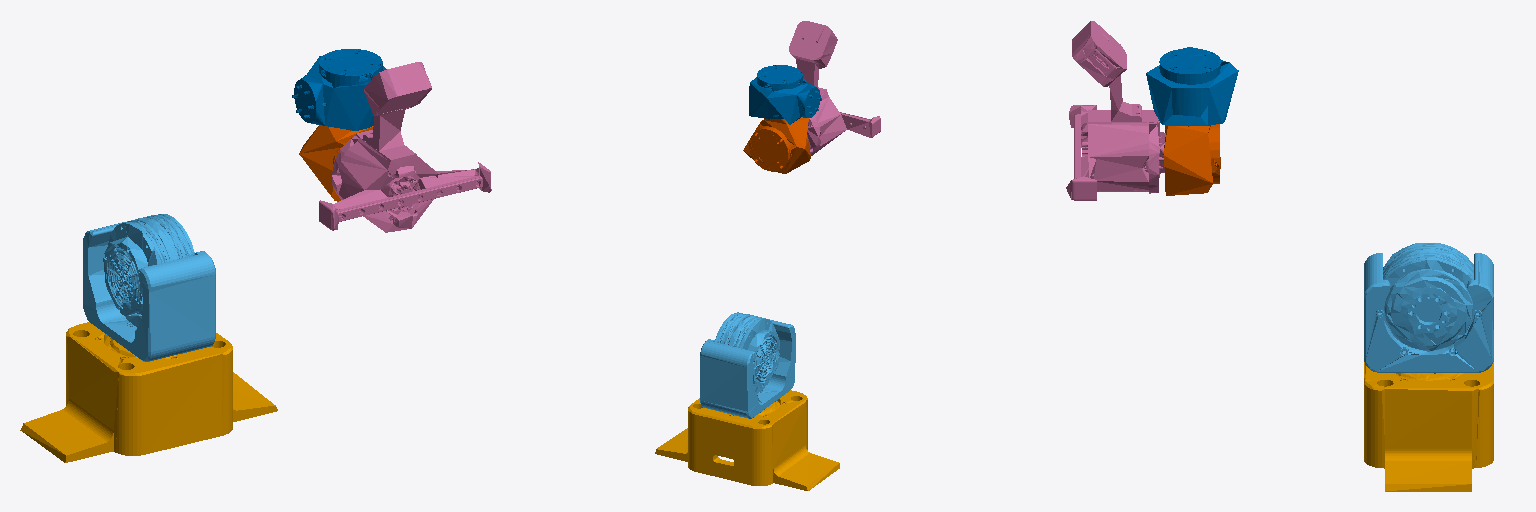
URDF robot description (s1_right):
<?xml version='1.0' encoding='utf-8'?>
<robot name="s1_right">
  <material name="pla_cf_black">
    <color rgba="0.08 0.083 0.09 1" />
  </material>
  <material name="base_graphite">
    <color rgba="0.12 0.13 0.142 1" />
  </material>
  <material name="link1_cool_graphite">
    <color rgba="0.17 0.19 0.215 1" />
  </material>
  <material name="link2_blue_graphite">
    <color rgba="0.125 0.165 0.2 1" />
  </material>
  <material name="link3_warm_graphite">
    <color rgba="0.2 0.17 0.125 1" />
  </material>
  <material name="link4_green_graphite">
    <color rgba="0.145 0.19 0.13 1" />
  </material>
  <material name="link5_violet_graphite">
    <color rgba="0.185 0.145 0.205 1" />
  </material>
  <material name="gripper_graphite">
    <color rgba="0.15 0.155 0.17 1" />
  </material>
  <material name="finger_carrier_graphite">
    <color rgba="0.12 0.13 0.145 1" />
  </material>
  <material name="motor_dark_gray">
    <color rgba="0.285 0.29 0.305 1" />
  </material>
  <material name="black_oxide">
    <color rgba="0.045 0.045 0.05 1" />
  </material>
  <material name="silver_metal">
    <color rgba="0.83 0.83 0.815 1" />
  </material>
  <material name="camera_black">
    <color rgba="0.07 0.075 0.085 1" />
  </material>
  <material name="rubber_black">
    <color rgba="0.055 0.055 0.06 1" />
  </material>
  <material name="soft_finger_orange">
    <color rgba="1 0.33 0.02 1" />
  </material>
  <link name="base_link">
    <inertial>
      <origin xyz="-7.46613316e-16 -5.4488925e-17 -0.00276303415" rpy="0 0 0" />
      <mass value="1.29583519" />
      <inertia ixx="0.0017107724" ixy="-1.80418018e-19" ixz="-7.35483974e-18" iyy="0.00274261726" iyz="-7.67794656e-19" izz="0.00340175483" />
    </inertial>
    <visual>
      <origin xyz="0 0 0" rpy="0 0 0" />
      <geometry>
        <mesh filename="../meshes/visual/base_link.obj" />
      </geometry>
    </visual>
    <collision>
      <origin xyz="-2.74780199e-15 -2.22044605e-16 -0.01" rpy="0 0 0" />
      <geometry>
        <box size="0.22 0.12 0.0817" />
      </geometry>
    </collision>
  </link>
  <link name="link1">
    <inertial>
      <origin xyz="0.00327466065 -3.54095634e-05 0.0909114977" rpy="0 0 0" />
      <mass value="1.12836581" />
      <inertia ixx="0.00195177555" ixy="9.87899467e-07" ixz="-1.26151138e-05" iyy="0.0013617154" iyz="-1.39972709e-06" izz="0.0013391883" />
    </inertial>
    <visual>
      <origin xyz="0 0 0" rpy="0 0 0" />
      <geometry>
        <mesh filename="../meshes/visual/link1.obj" />
      </geometry>
    </visual>
    <collision>
      <origin xyz="7.24420524e-15 6.10622664e-16 0.0841" rpy="0 0 0" />
      <geometry>
        <box size="0.07 0.12 0.1195" />
      </geometry>
    </collision>
  </link>
  <link name="link2">
    <inertial>
      <origin xyz="0.0438748016 -2.88223248e-05 0.171998187" rpy="0 0 0" />
      <mass value="0.914321365" />
      <inertia ixx="0.00890792612" ixy="1.31110743e-07" ixz="0.000193746912" iyy="0.00872933125" iyz="-1.35111725e-06" izz="0.000568555708" />
    </inertial>
    <visual>
      <origin xyz="0 0 0" rpy="0 0 0" />
      <geometry>
        <mesh filename="../meshes/visual/link2.obj" />
      </geometry>
    </visual>
    <collision>
      <origin xyz="0.041475 1.11022302e-15 0.125" rpy="0 0 0" />
      <geometry>
        <box size="0.06075 0.08 0.33" />
      </geometry>
    </collision>
  </link>
  <link name="link3">
    <inertial>
      <origin xyz="-0.0417290979 -0.156009659 3.38134269e-05" rpy="0 0 0" />
      <mass value="0.839316672" />
      <inertia ixx="0.00633206114" ixy="0.000145532134" ixz="2.13444502e-07" iyy="0.000531686993" iyz="-2.05633337e-06" izz="0.00618267806" />
    </inertial>
    <visual>
      <origin xyz="0 0 0" rpy="0 0 0" />
      <geometry>
        <mesh filename="../meshes/visual/link3.obj" />
      </geometry>
    </visual>
    <collision>
      <origin xyz="-0.039875 -0.10985 4.98212582e-15" rpy="0 0 0" />
      <geometry>
        <box size="0.06075 0.2997 0.08" />
      </geometry>
    </collision>
  </link>
  <link name="link4">
    <inertial>
      <origin xyz="0.0732396578 2.37324905e-07 0.0039188933" rpy="0 0 0" />
      <mass value="0.368651315" />
      <inertia ixx="0.000172235544" ixy="8.72272023e-11" ixz="-2.56704281e-06" iyy="0.000195507711" iyz="-1.62566292e-09" izz="0.000230267156" />
    </inertial>
    <visual>
      <origin xyz="0 0 0" rpy="0 0 0" />
      <geometry>
        <mesh filename="../meshes/visual/link4.obj" />
      </geometry>
    </visual>
    <collision>
      <origin xyz="0.06565 1.83186799e-15 0.0022" rpy="0 0 0" />
      <geometry>
        <box size="0.0852 0.066 0.0509" />
      </geometry>
    </collision>
  </link>
  <link name="link5">
    <inertial>
      <origin xyz="2.37324897e-07 0.00400027101 -0.0681658426" rpy="0 0 0" />
      <mass value="0.368651315" />
      <inertia ixx="0.00019584039" ixy="-1.62729219e-09" ixz="4.23583008e-10" iyy="0.00023051686" iyz="3.83217167e-06" izz="0.000172318521" />
    </inertial>
    <visual>
      <origin xyz="0 0 0" rpy="0 0 0" />
      <geometry>
        <mesh filename="../meshes/visual/link5.obj" />
      </geometry>
    </visual>
    <collision>
      <origin xyz="-8.03523914e-15 0.00225 -0.0604" rpy="0 0 0" />
      <geometry>
        <box size="0.066 0.051 0.0852" />
      </geometry>
    </collision>
  </link>
  <link name="gripper_base_link">
    <inertial>
      <origin xyz="7.05002409e-05 -0.073624413 0.0133070668" rpy="0 0 0" />
      <mass value="0.566289225" />
      <inertia ixx="0.00105813362" ixy="-7.20294607e-07" ixz="-1.62884186e-07" iyy="0.00120353592" iyz="0.000112752829" izz="0.000702651412" />
    </inertial>
    <visual>
      <origin xyz="0 0 0" rpy="0 0 0" />
      <geometry>
        <mesh filename="../meshes/visual/gripper_base_link.obj" />
      </geometry>
    </visual>
    <collision>
      <origin xyz="2.22044605e-16 -0.069 0.044550084" rpy="0 0 0" />
      <geometry>
        <box size="0.166 0.092 0.164100168" />
      </geometry>
    </collision>
  </link>
  <link name="left_finger_link">
    <inertial>
      <origin xyz="-0.0589163757 -0.138908274 0.000518355848" rpy="0 0 0" />
      <mass value="0.0643791022" />
      <inertia ixx="9.84052109e-05" ixy="-3.38980672e-07" ixz="-7.16458775e-07" iyy="1.38351336e-05" iyz="-1.05776011e-06" izz="9.81390236e-05" />
    </inertial>
    <visual>
      <origin xyz="0 0 0" rpy="0 0 0" />
      <geometry>
        <mesh filename="../meshes/visual/left_finger_link.obj" />
      </geometry>
    </visual>
    <collision>
      <origin xyz="-0.0349500659 -0.16755 5e-05" rpy="0 0 0" />
      <geometry>
        <box size="0.0826656621 0.1351 0.052" />
      </geometry>
    </collision>
  </link>
  <link name="right_finger_link">
    <inertial>
      <origin xyz="0.0589163778 -0.138908274 -0.000168355851" rpy="0 0 0" />
      <mass value="0.0643791022" />
      <inertia ixx="9.84052109e-05" ixy="3.38980672e-07" ixz="-7.16458775e-07" iyy="1.38351336e-05" iyz="1.05776012e-06" izz="9.81390236e-05" />
    </inertial>
    <visual>
      <origin xyz="0 0 0" rpy="0 0 0" />
      <geometry>
        <mesh filename="../meshes/visual/right_finger_link.obj" />
      </geometry>
    </visual>
    <collision>
      <origin xyz="0.034950068 -0.16755 0.0003" rpy="0 0 0" />
      <geometry>
        <box size="0.0826656621 0.1351 0.052" />
      </geometry>
    </collision>
  </link>
  <link name="camera_link" />
  <joint name="camera_fixed" type="fixed">
    <parent link="gripper_base_link" />
    <child link="camera_link" />
    <origin xyz="8.24998808e-05 -0.0904390307 0.0987713467" rpy="0 0 0" />
  </joint>
  <link name="tool0" />
  <joint name="tool0_fixed" type="fixed">
    <parent link="gripper_base_link" />
    <child link="tool0" />
    <origin xyz="-4.37776271e-05 -0.151981036 1.01722606e-05" rpy="0 0 0" />
  </joint>
  <joint name="base" type="revolute">
    <parent link="base_link" />
    <child link="link1" />
    <origin xyz="0 0 0" rpy="0 0 0" />
    <axis xyz="0 0 1" />
    <limit lower="-1.59" upper="1.57" effort="35" velocity="6.6" />
  </joint>
  <joint name="link1" type="revolute">
    <parent link="link1" />
    <child link="link2" />
    <origin xyz="0.00385 7.77156117e-16 0.09485" rpy="0 0 0" />
    <axis xyz="1 0 0" />
    <limit lower="-1.98" upper="1.97" effort="35" velocity="6.6" />
  </joint>
  <joint name="link2" type="revolute">
    <parent link="link2" />
    <child link="link3" />
    <origin xyz="0.0436 2.44249065e-15 0.25" rpy="0 0 0" />
    <axis xyz="1 0 0" />
    <limit lower="-1.18" upper="3.96" effort="8" velocity="5.5" />
  </joint>
  <joint name="link3" type="revolute">
    <parent link="link3" />
    <child link="link4" />
    <origin xyz="-0.042 -0.2197 4.94049246e-15" rpy="0 0 0" />
    <axis xyz="1 0 0" />
    <limit lower="-2.12" upper="1.95" effort="8" velocity="5.5" />
  </joint>
  <joint name="link4" type="revolute">
    <parent link="link4" />
    <child link="link5" />
    <origin xyz="0.07525 -6.66133815e-16 0.00465" rpy="0 0 0" />
    <axis xyz="0 0 1" />
    <limit lower="-0.65" upper="0.75" effort="4" velocity="10" />
  </joint>
  <joint name="link5" type="revolute">
    <parent link="link5" />
    <child link="gripper_base_link" />
    <origin xyz="-7.46624984e-15 0.00475 -0.07" rpy="0 0 0" />
    <axis xyz="0 1 0" />
    <limit lower="-3.17" upper="3.08" effort="4" velocity="10" />
  </joint>
  <joint name="gripper" type="prismatic">
    <parent link="gripper_base_link" />
    <child link="left_finger_link" />
    <origin xyz="0 0 0" rpy="0 0 0" />
    <axis xyz="-1 0 0" />
    <limit lower="-0.045" upper="0" effort="80" velocity="0.2" />
  </joint>
  <joint name="gripper_right_mimic" type="prismatic">
    <parent link="gripper_base_link" />
    <child link="right_finger_link" />
    <origin xyz="0 0 0" rpy="0 0 0" />
    <axis xyz="1 0 0" />
    <limit lower="-0.045" upper="0" effort="80" velocity="0.2" />
    <mimic joint="gripper" multiplier="1" offset="0" />
  </joint>
</robot>

--- Facts derived from the render (not from the file) ---
Views: 3 orthographic renders of the robot side by side, from view 1: azimuth 30°, elevation 25°; view 2: azimuth 150°, elevation 25°; view 3: azimuth 270°, elevation 25°.
Model s1_right with 11 links and 10 joints (6 revolute, 2 prismatic, 2 fixed), rooted at base_link, posed all joints at 0.
Links seen in each view (by area): view 1: base_link, link1, gripper_base_link, link4, link5; view 2: base_link, link1, gripper_base_link, link4, link5; view 3: link1, base_link, gripper_base_link, link4, link5.
Boxes of the visible links, <box> form: base_link: <box>20,322,277,462</box>; link1: <box>83,214,215,361</box>; gripper_base_link: <box>319,62,491,232</box>; link4: <box>292,49,386,130</box>; link5: <box>299,125,373,201</box>; base_link: <box>655,390,839,490</box>; link1: <box>700,312,795,418</box>; gripper_base_link: <box>789,21,880,155</box>; link4: <box>749,65,821,124</box>; link5: <box>743,117,810,173</box>; link1: <box>1364,243,1493,372</box>; base_link: <box>1364,362,1493,491</box>; gripper_base_link: <box>1066,21,1165,200</box>; link4: <box>1146,47,1238,125</box>; link5: <box>1163,124,1220,195</box>.
Size in the robot's own frame: 0.2737 by 0.3941 by 0.457 metres.
Meshes: 9 distinct files referenced, 5 mesh visuals loaded (5 OBJ); not drawn: 4 (reference not matched to a file when rendering).
